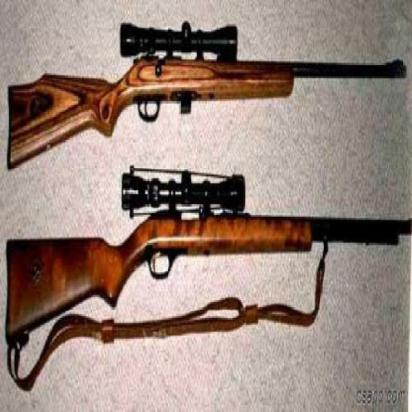Gun: (9, 24, 406, 164), (6, 211, 411, 341)
